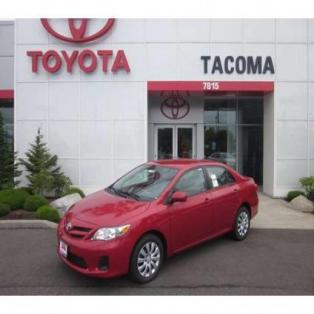Auto: (56, 154, 260, 286)
